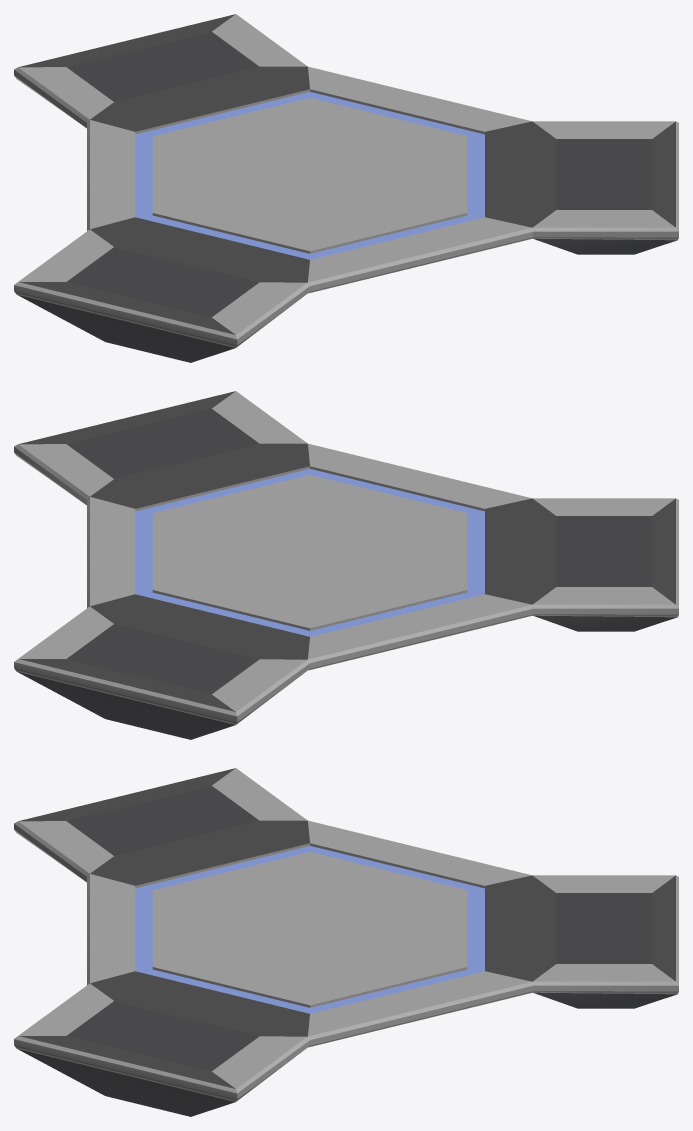
File: Platform Floating 2.fbx
3 views of the same model, one above another, from view 1: azimuth 30°, elevation 25°; view 2: azimuth 150°, elevation 25°; view 3: azimuth 270°, elevation 25° (orthographic).
Visible parts, largest first — view 1: light_3; view 2: light_3; view 3: light_3.
Boxes of the visible parts, x1,y1,x2,y2 form: light_3: [14, 14, 678, 362]; light_3: [14, 391, 678, 739]; light_3: [14, 768, 678, 1116].
Bounding box in the file's own units: 447 × 63.58 × 387.
